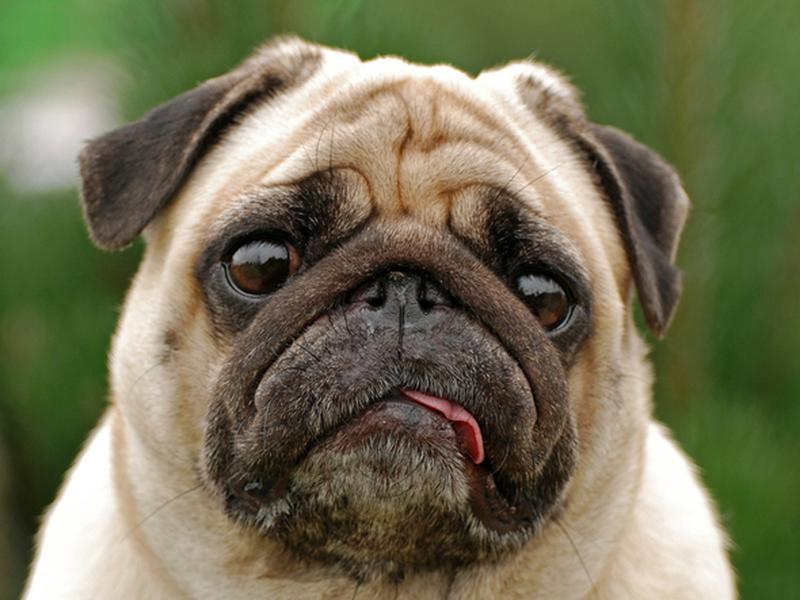dog: (15, 35, 747, 599)
